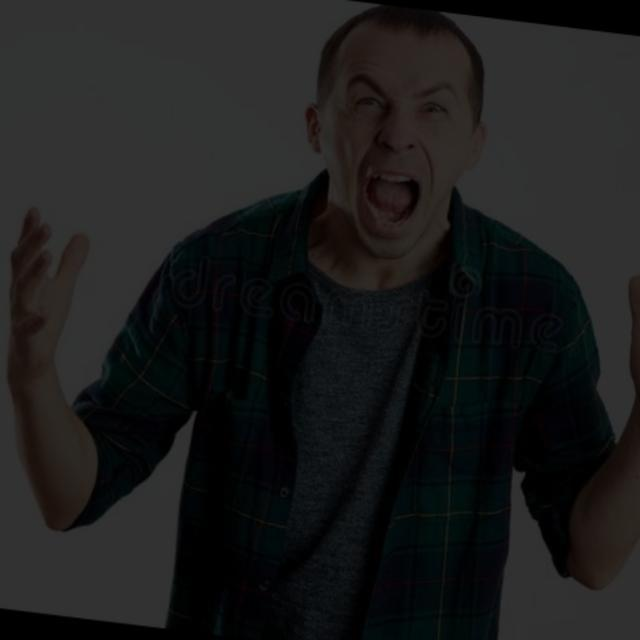Angry: (263, 0, 524, 299)
